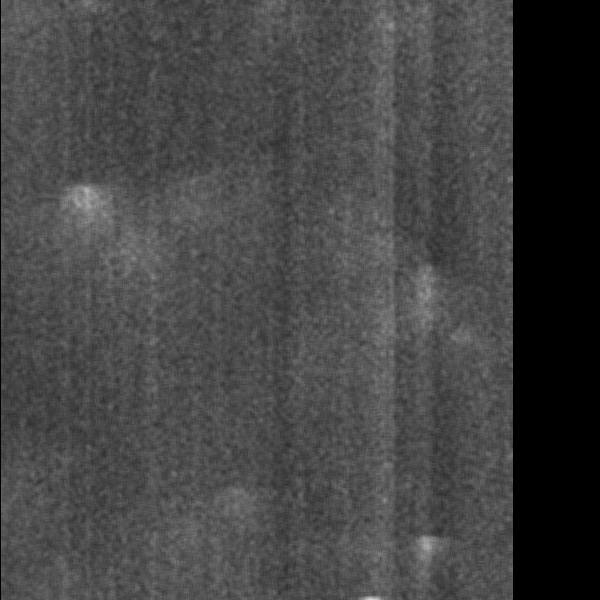spark: (72, 178, 102, 308), (217, 480, 254, 538)
